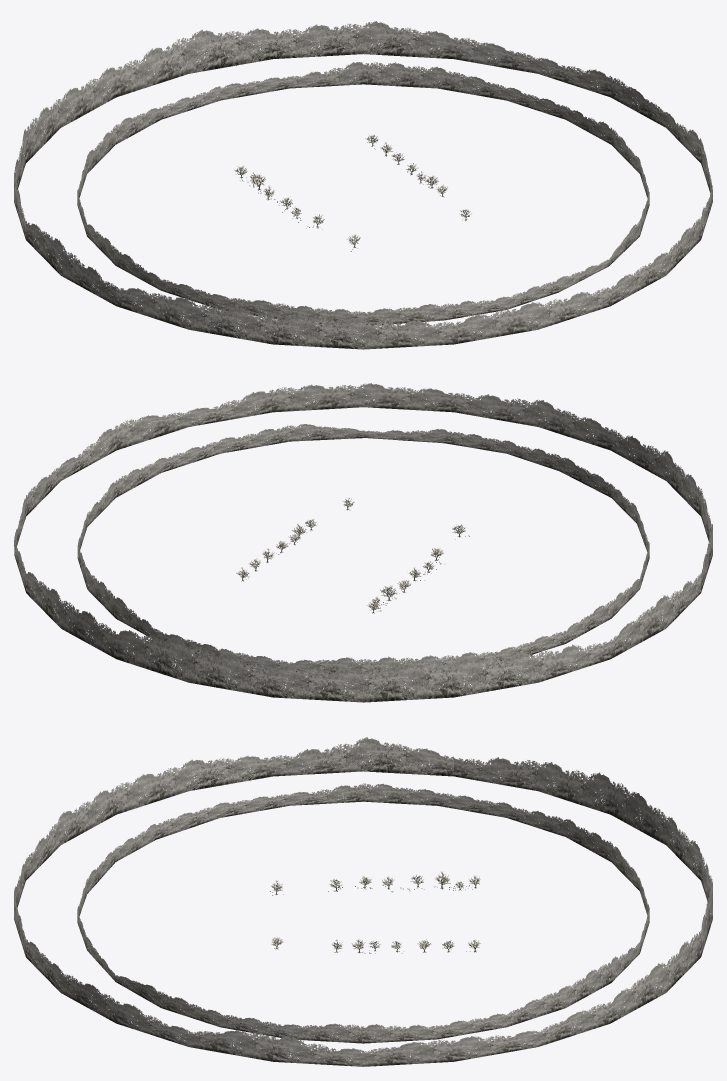
File: plants.obj
The picture shows the model from 3 angles, top to bottom: view 1: azimuth 30°, elevation 25°; view 2: azimuth 150°, elevation 25°; view 3: azimuth 270°, elevation 25°; orthographic projection.
Parts seen in each view (by area): view 1: 神霊廟_植物装飾_mesh_神霊廟_植物装飾, 神霊廟 ver0.88_mesh_神霊廟 ver0.88; view 2: 神霊廟_植物装飾_mesh_神霊廟_植物装飾, 神霊廟 ver0.88_mesh_神霊廟 ver0.88; view 3: 神霊廟_植物装飾_mesh_神霊廟_植物装飾, 神霊廟 ver0.88_mesh_神霊廟 ver0.88.
Part boxes in pixels (x1,y1,x2,y2): 神霊廟_植物装飾_mesh_神霊廟_植物装飾: (14,21,712,349); 神霊廟 ver0.88_mesh_神霊廟 ver0.88: (235,135,470,247); 神霊廟_植物装飾_mesh_神霊廟_植物装飾: (14,383,712,702); 神霊廟 ver0.88_mesh_神霊廟 ver0.88: (239,499,464,613); 神霊廟_植物装飾_mesh_神霊廟_植物装飾: (14,737,712,1066); 神霊廟 ver0.88_mesh_神霊廟 ver0.88: (271,873,479,953).
Size of the model in its own units: 410 by 34.19 by 410.
